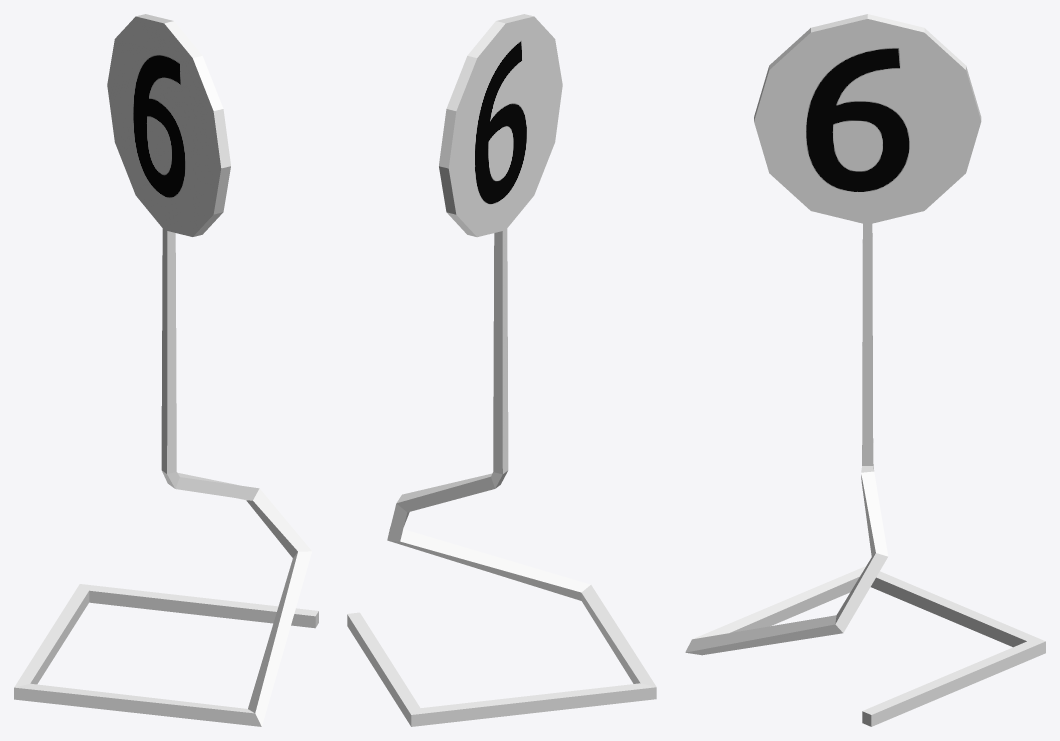
Rendered from Marker_6.FBX.
3 views of the same model, side by side, from view 1: azimuth 30°, elevation 25°; view 2: azimuth 150°, elevation 25°; view 3: azimuth 270°, elevation 25° (orthographic).
Parts seen in each view (by area): view 1: Marker_6; view 2: Marker_6; view 3: Marker_6.
Part boxes in pixels (<box>): Marker_6: <box>14,14,318,726</box>; Marker_6: <box>347,14,656,726</box>; Marker_6: <box>685,14,1045,726</box>.
Size of the model in its own units: 4.03 by 8.02 by 4.11.
